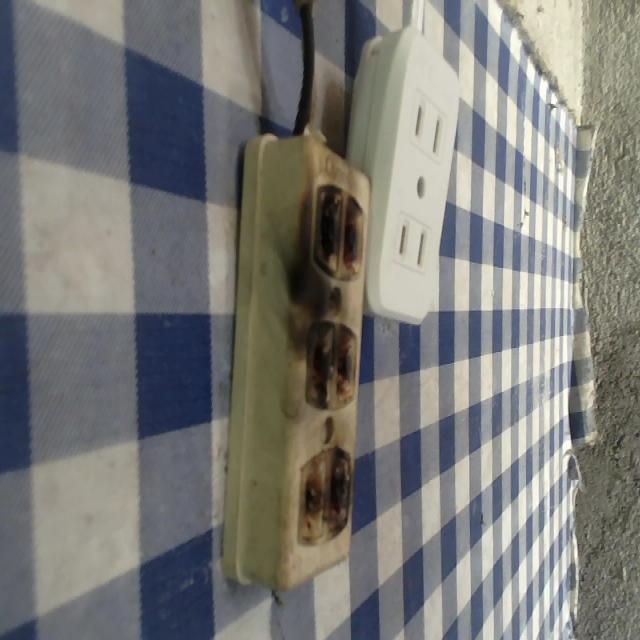-: (308, 175, 366, 276), (301, 316, 359, 411), (295, 447, 351, 541)
